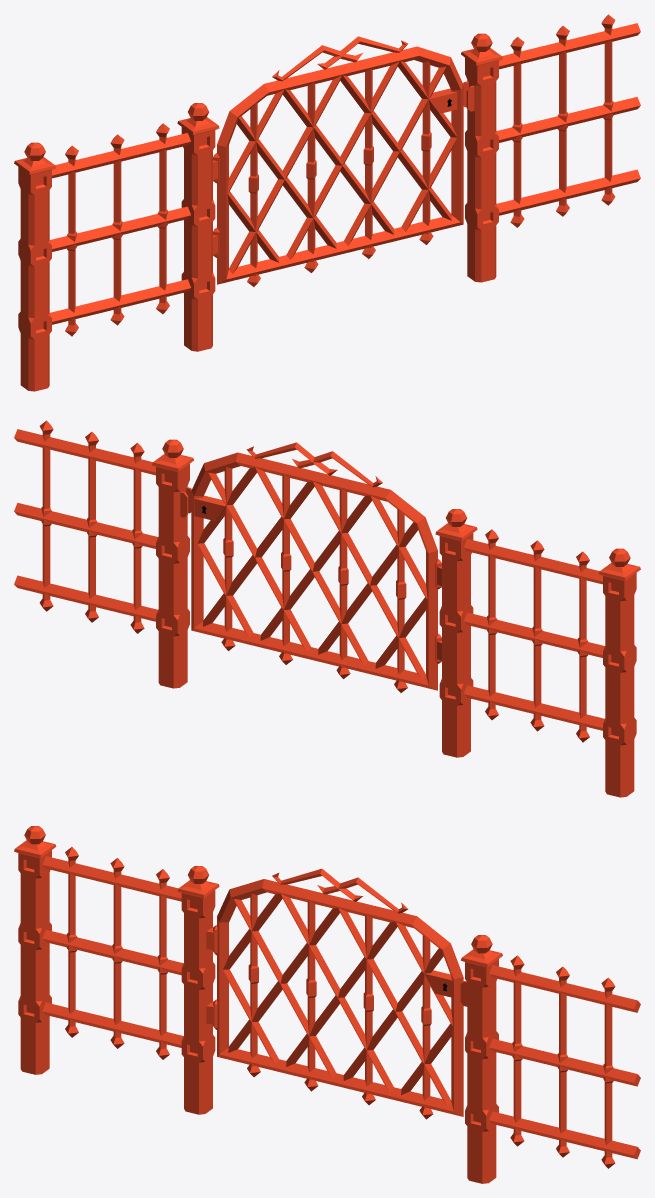
File: SM_Fence_Small_Gate_City.fbx
3 views of the same model, one above another, from view 1: azimuth 30°, elevation 25°; view 2: azimuth 150°, elevation 25°; view 3: azimuth 330°, elevation 25° (orthographic).
Parts seen in each view (by area): view 1: SM_Fence_Small_Gate_City_Base, SM_Fence_Small_Gate_City_Door; view 2: SM_Fence_Small_Gate_City_Base, SM_Fence_Small_Gate_City_Door; view 3: SM_Fence_Small_Gate_City_Base, SM_Fence_Small_Gate_City_Door.
Boxes of the visible parts, box(x1,y1,x2,y2) form: SM_Fence_Small_Gate_City_Base: box(14, 14, 640, 391); SM_Fence_Small_Gate_City_Door: box(213, 36, 463, 286); SM_Fence_Small_Gate_City_Base: box(14, 420, 640, 797); SM_Fence_Small_Gate_City_Door: box(191, 442, 441, 692); SM_Fence_Small_Gate_City_Base: box(14, 826, 640, 1183); SM_Fence_Small_Gate_City_Door: box(213, 868, 463, 1119).
Size of the model in its own units: 3.03 by 1.27 by 0.1319.
